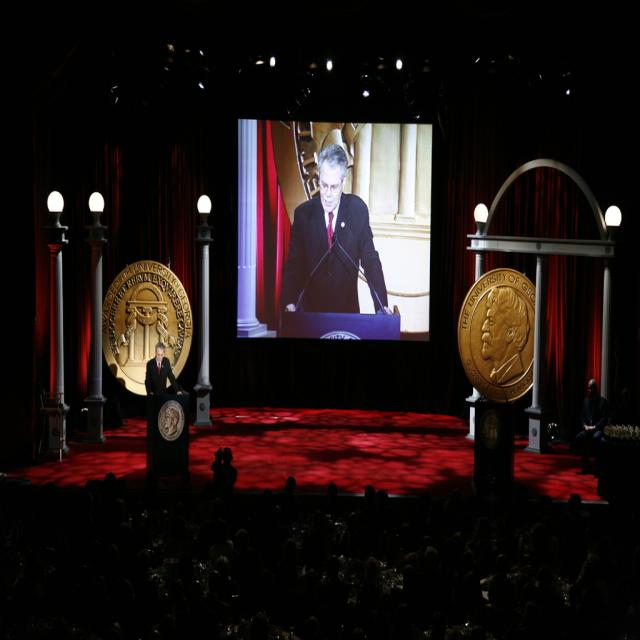Coin: (452, 271, 536, 406), (154, 396, 184, 442)
